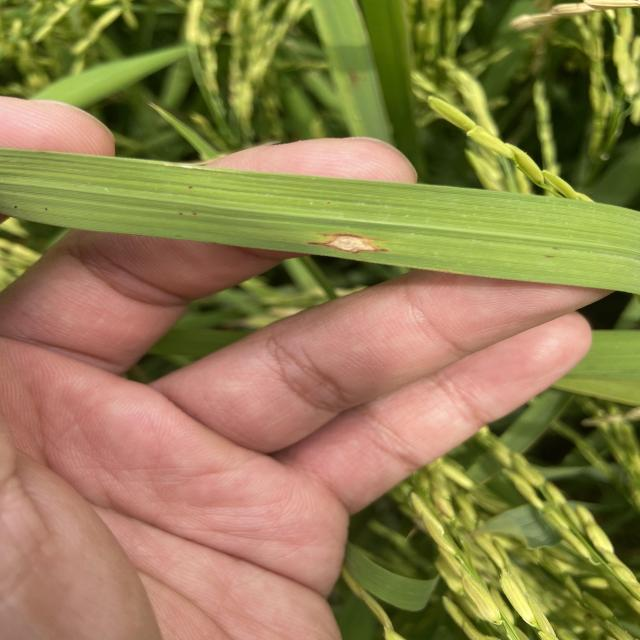Dao on: (308, 233, 391, 255)
